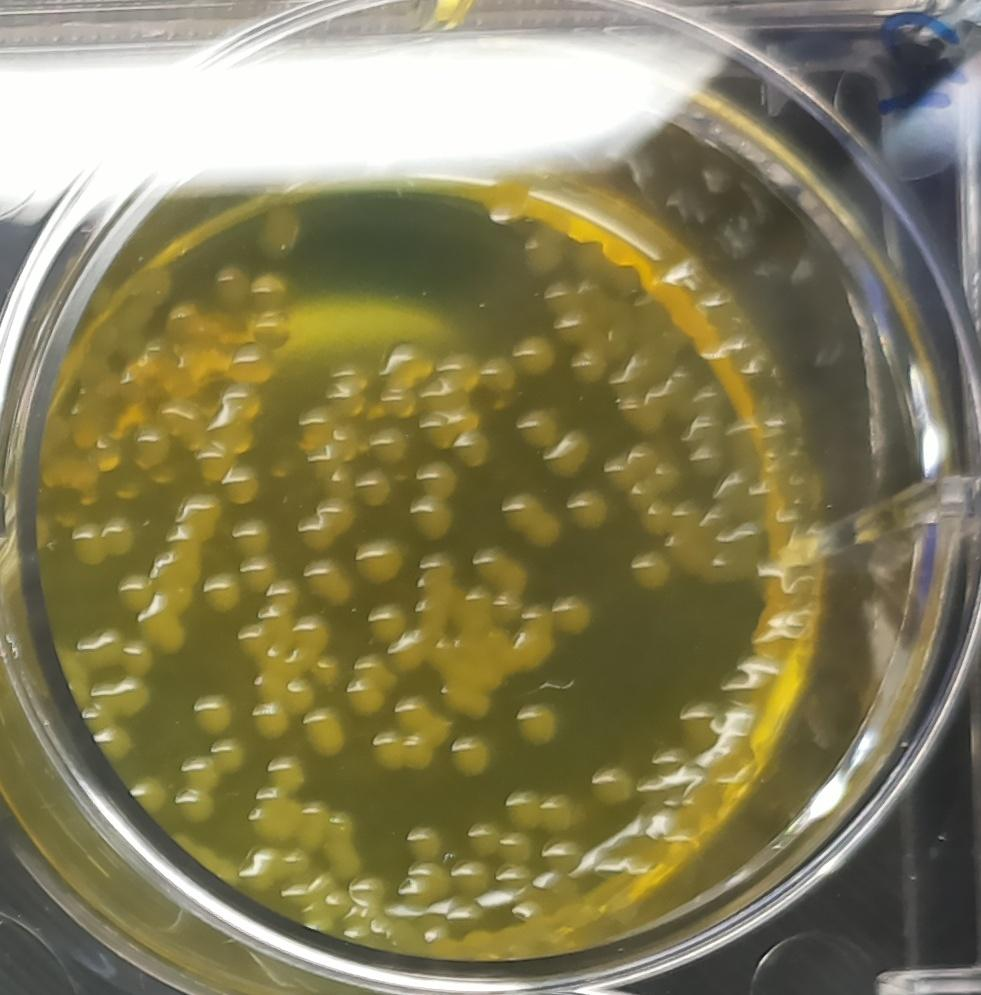vangil: (140, 493, 223, 655), (501, 491, 564, 550), (469, 543, 528, 598), (299, 495, 356, 551), (72, 513, 134, 563), (504, 790, 575, 832), (370, 731, 434, 774), (352, 537, 405, 586), (509, 701, 561, 750), (552, 590, 602, 639), (303, 558, 354, 606), (303, 706, 348, 760), (91, 677, 148, 718), (510, 332, 558, 379), (409, 495, 458, 541), (227, 342, 277, 387), (450, 852, 496, 900), (564, 487, 610, 534), (628, 548, 673, 596), (587, 764, 634, 808), (449, 733, 491, 781), (191, 689, 233, 736), (364, 602, 408, 646), (250, 701, 294, 743), (263, 753, 308, 794), (206, 734, 248, 776), (220, 462, 261, 505), (517, 409, 559, 450), (354, 467, 394, 508), (175, 785, 217, 824), (201, 570, 241, 609), (235, 557, 276, 595), (417, 460, 459, 497), (230, 518, 269, 557), (116, 572, 154, 611), (453, 430, 490, 469), (179, 758, 220, 791)
